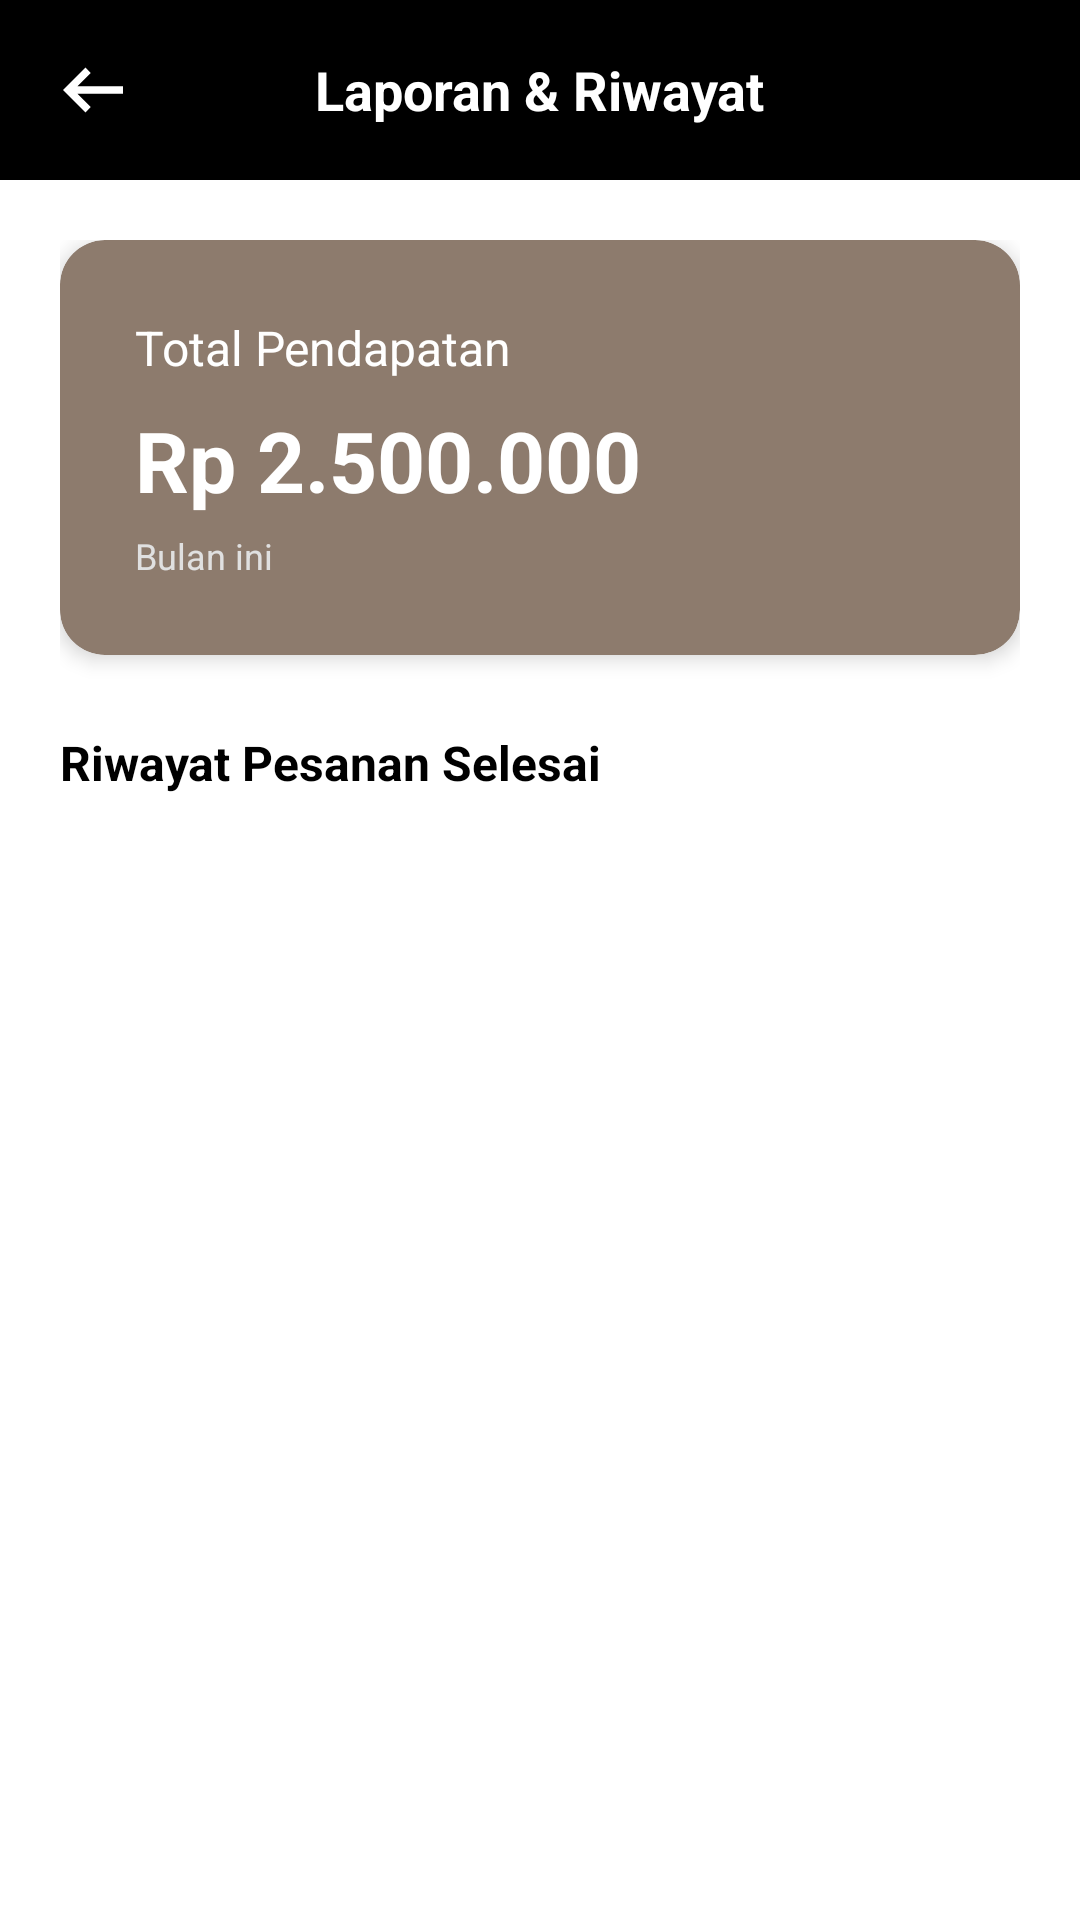

Icons on this 1080×1920 Android screen, each with its box as box=[x1, y1, x2, y2]:
back: box=[63, 67, 123, 113]
